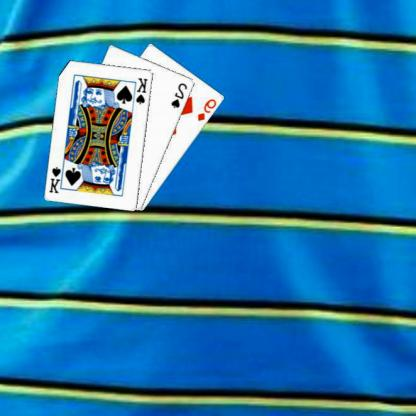2S: (170, 80, 191, 109)
9D: (197, 96, 220, 123)
KS: (48, 162, 68, 194), (135, 74, 151, 106)
